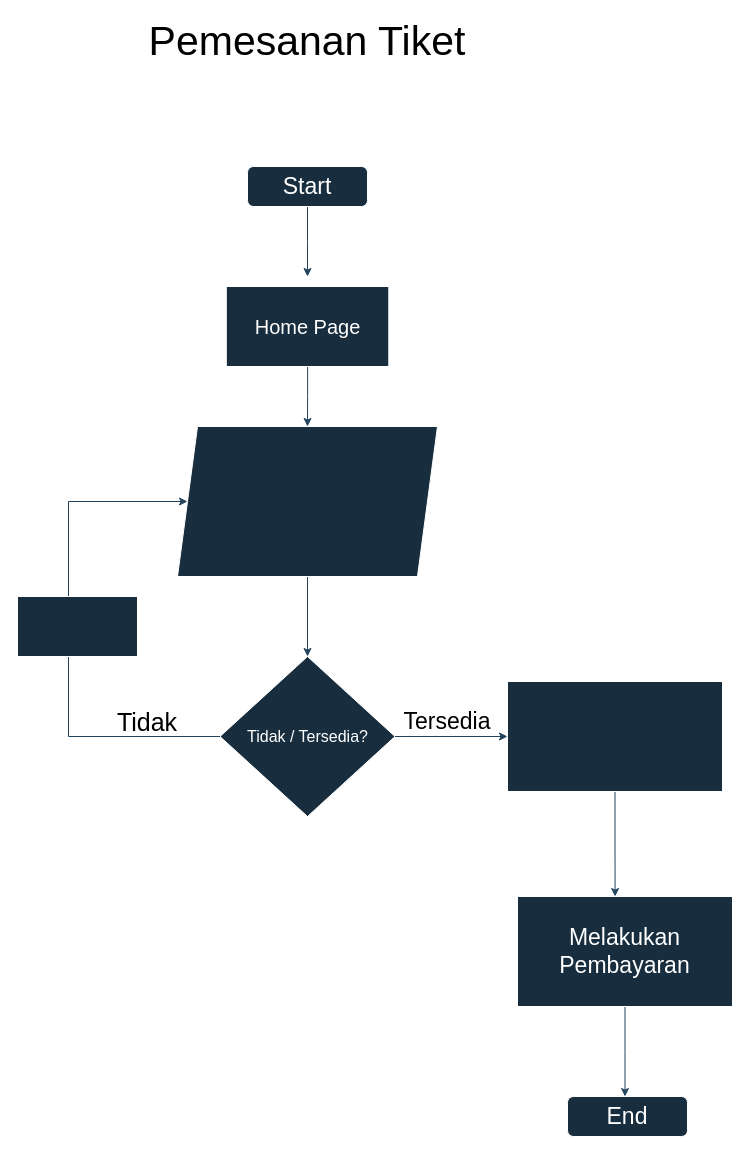
Some shapes in this 750 by 1154 pixel diagram are drawn without their labels. The shapes that lost their labels are listed below. From the top down, each one's centre as x and y in pixels, then its label:
At (307,501): "Isi Form : - Tujuan - Tanggal - Kelas - Jumlah Penumpang".
At (77,626): "Alert : Tidak Tersedia".
At (614,736): "Memilih pesawat dan membandingkan harga".
